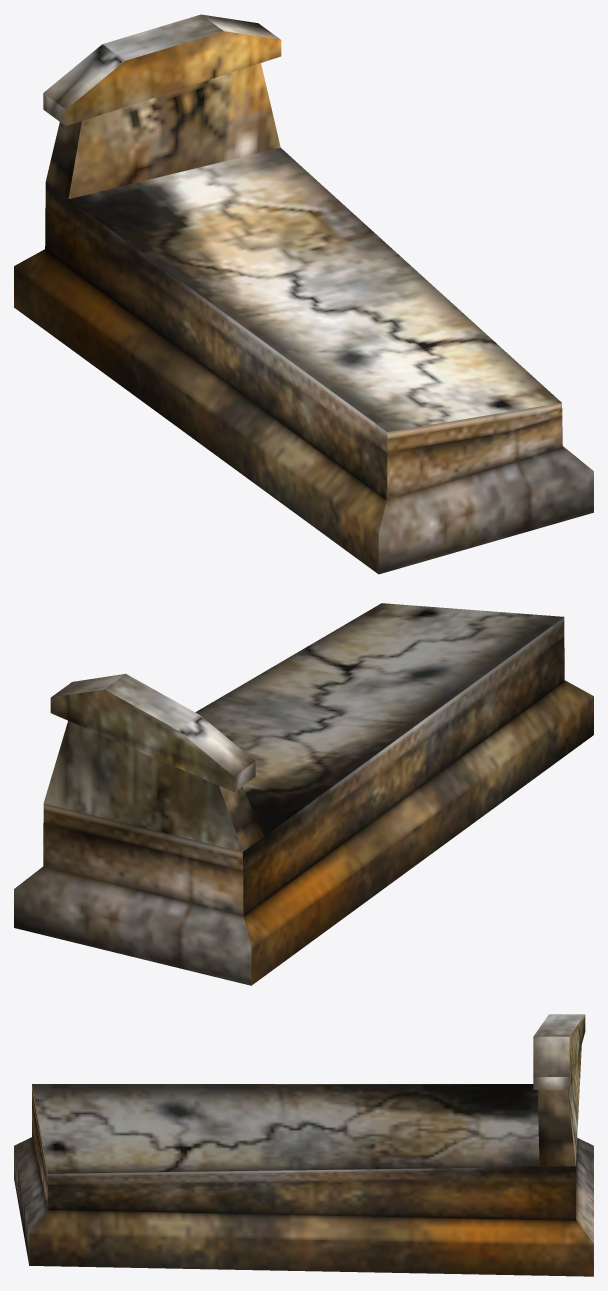
Rendered from USA - Prop - Tomb - Damaged - PATomb_D.glb.
3 views of the same model, one above another, from view 1: azimuth 30°, elevation 25°; view 2: azimuth 150°, elevation 25°; view 3: azimuth 270°, elevation 25° (orthographic). The views are drawn at different scales.
Visible parts, largest first — view 1: PATOMB_D; view 2: PATOMB_D; view 3: PATOMB_D.
Boxes of the visible parts, x1,y1,x2,y2 form: PATOMB_D: (14,14,593,574); PATOMB_D: (14,603,593,985); PATOMB_D: (14,1014,593,1276).
Bounding box in the file's own units: 6.4 × 6.35 × 16.
Materials: 1 (1 with a texture image).
